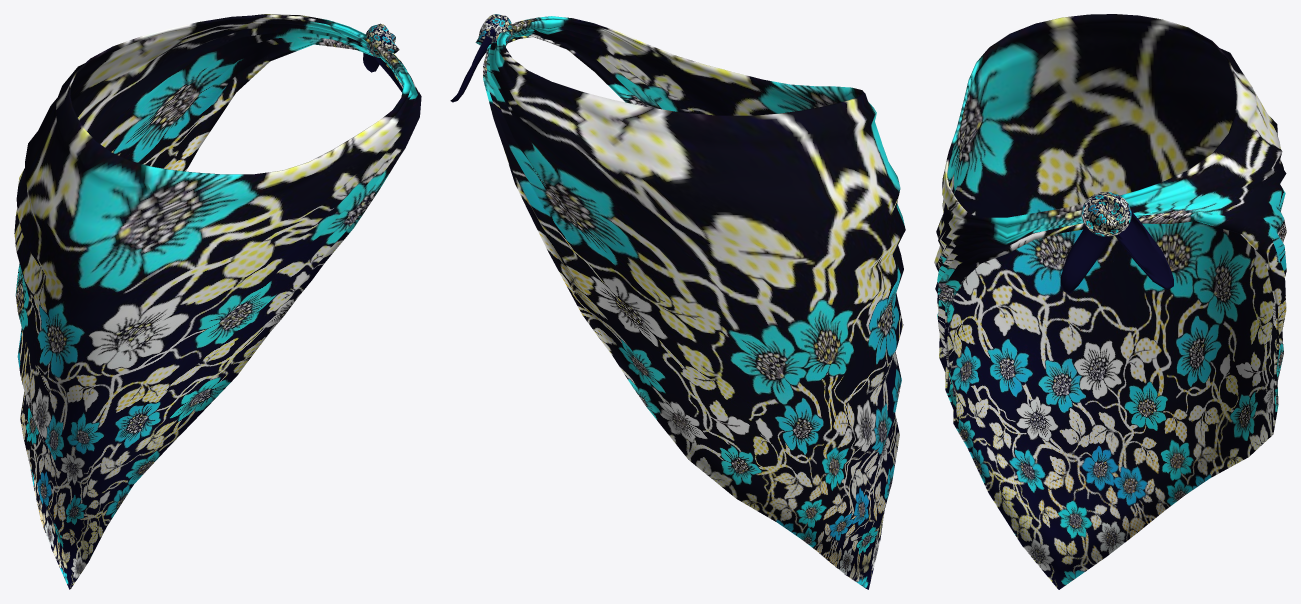
File: Pareo.fbx
3 renders of one model, left to right at view 1: azimuth 30°, elevation 25°; view 2: azimuth 150°, elevation 25°; view 3: azimuth 270°, elevation 25°, orthographic. The views are drawn at different scales.
Parts seen in each view (by area): view 1: Pareo; view 2: Pareo; view 3: Pareo.
Part boxes in pixels (x1,y1,x2,y2): Pareo: [14, 14, 421, 589]; Pareo: [450, 14, 905, 589]; Pareo: [934, 14, 1286, 589].
Bounding box in the file's own units: 27.71 × 33.45 × 17.77.
